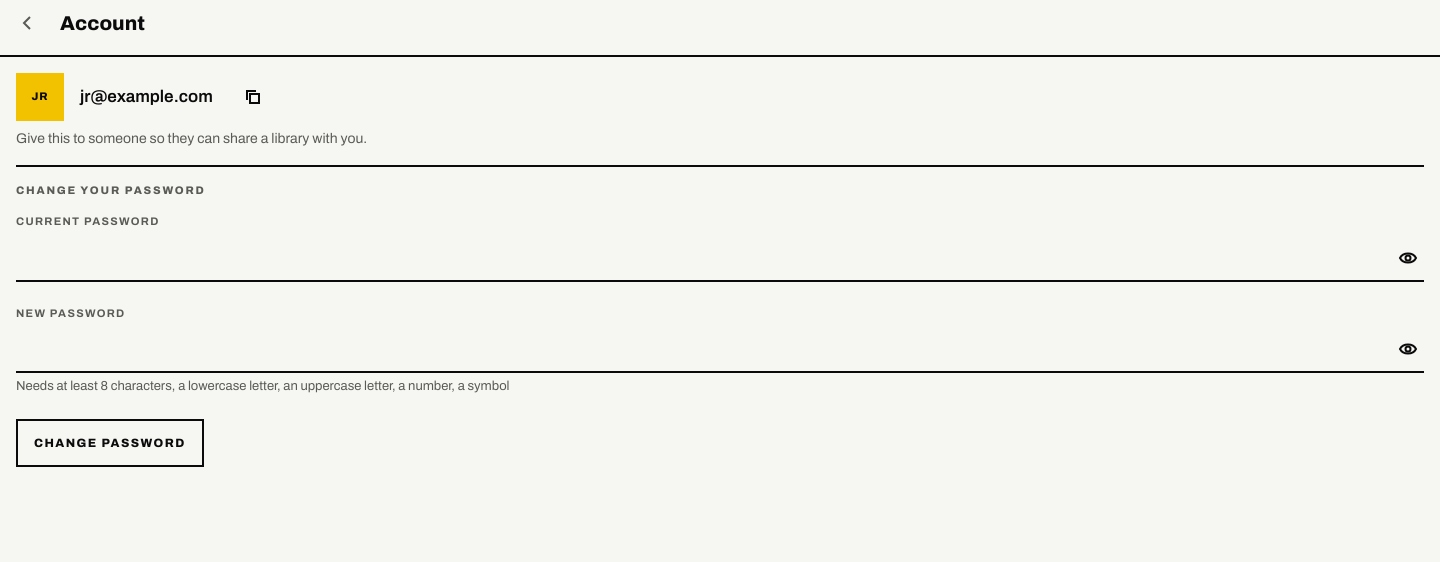
it: Account › names the cause when the current password is wrong, in place
The image size is (1440, 562).
In the password field labelled "Current password": (700, 258) x1=16 y1=234 x2=1384 y2=282, type "Wrong-pass-1!"
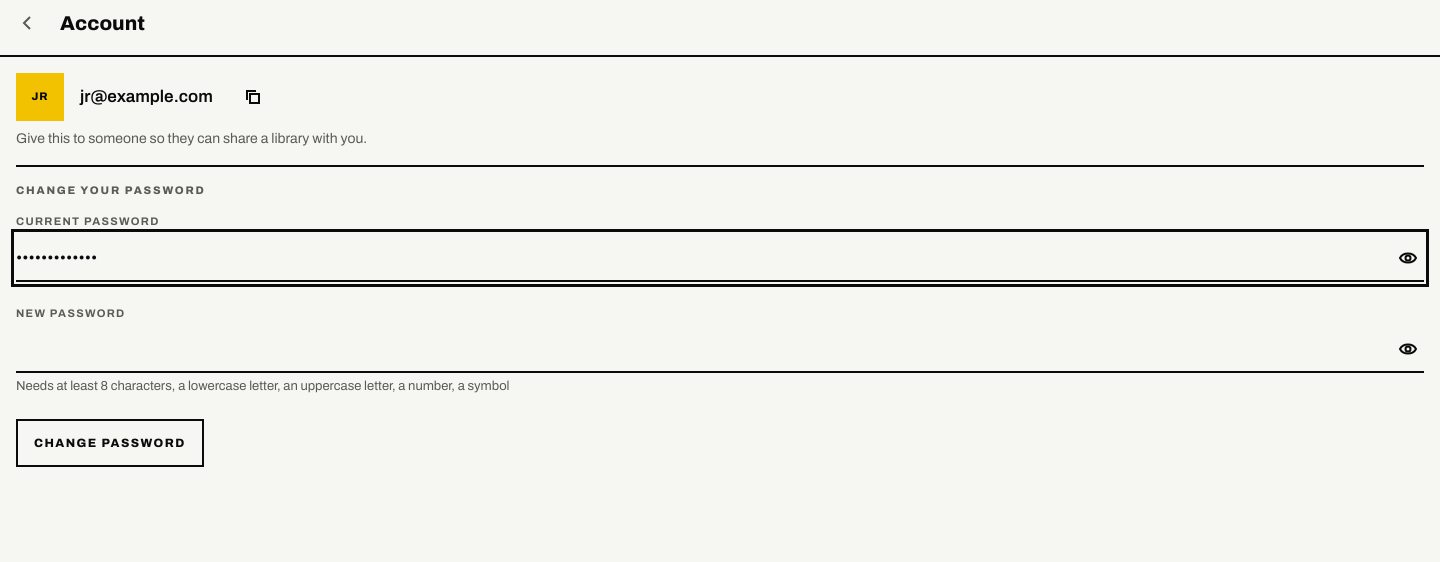
In the password field labelled "New password": (700, 349) x1=16 y1=325 x2=1384 y2=373, type "New-pass-1!"
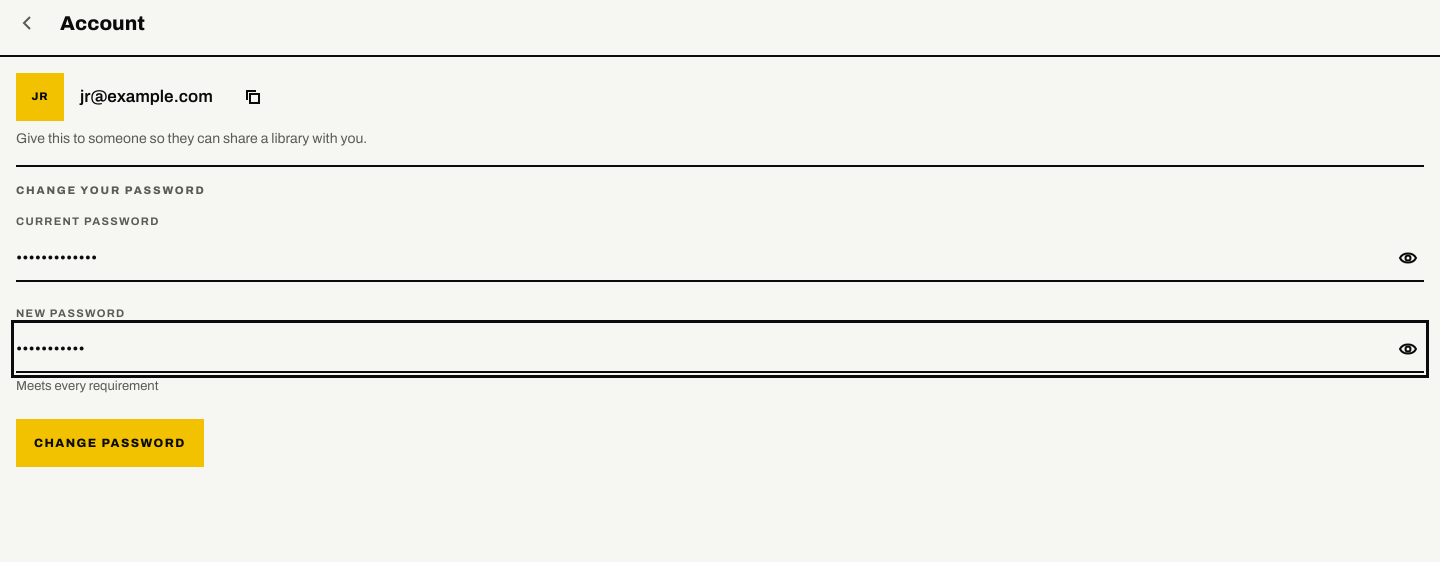
Click the button "Change password": click(110, 443) x1=16 y1=419 x2=204 y2=467
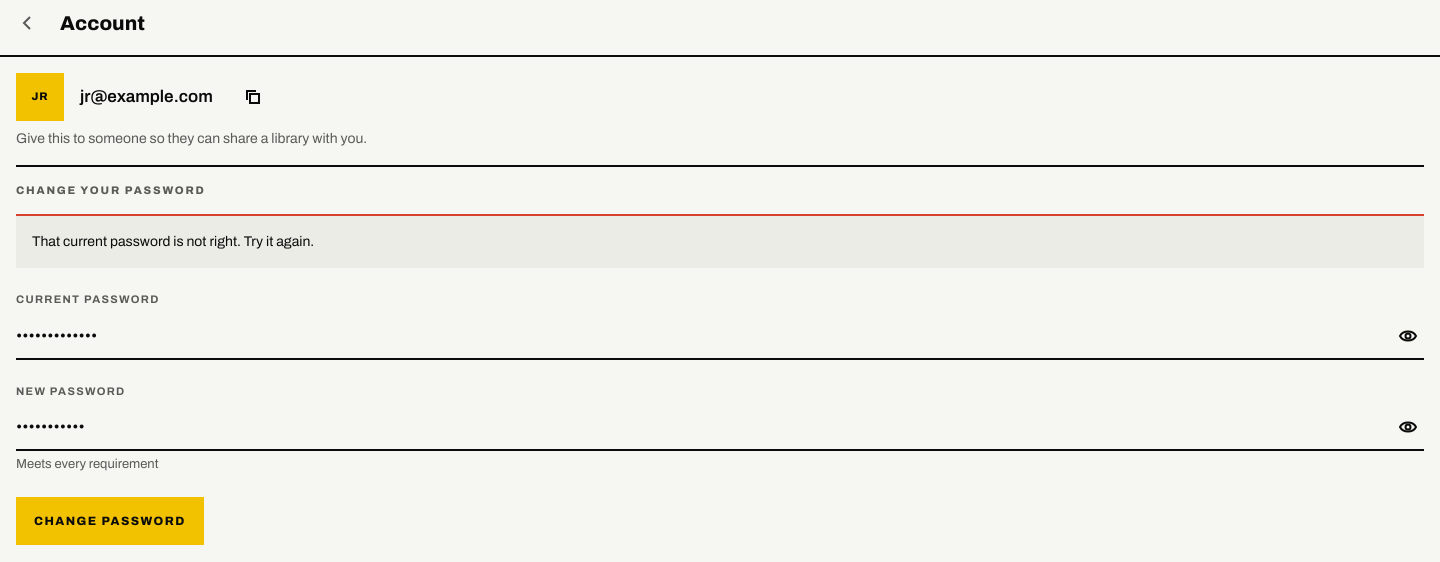
Result: the message "That current password is not right. Try it again." is shown at x1=16 y1=214 x2=1424 y2=268
